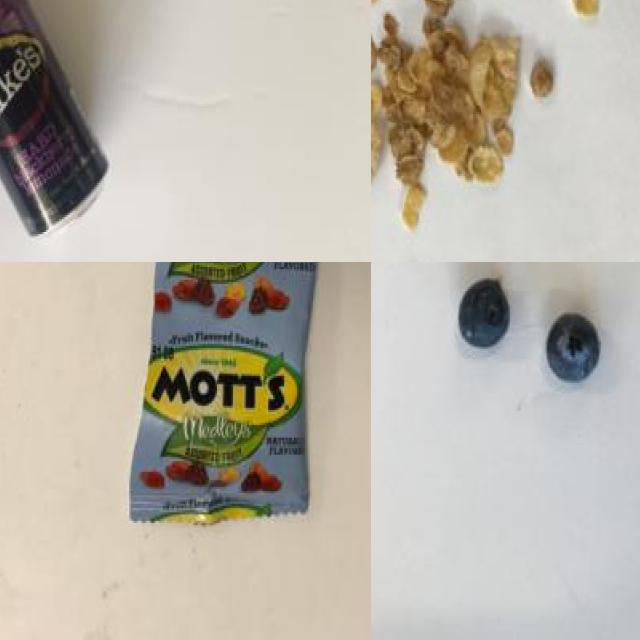compost: (371, 0, 577, 251), (430, 262, 628, 453)
plastic: (0, 0, 116, 240)
trash: (120, 262, 351, 555)
